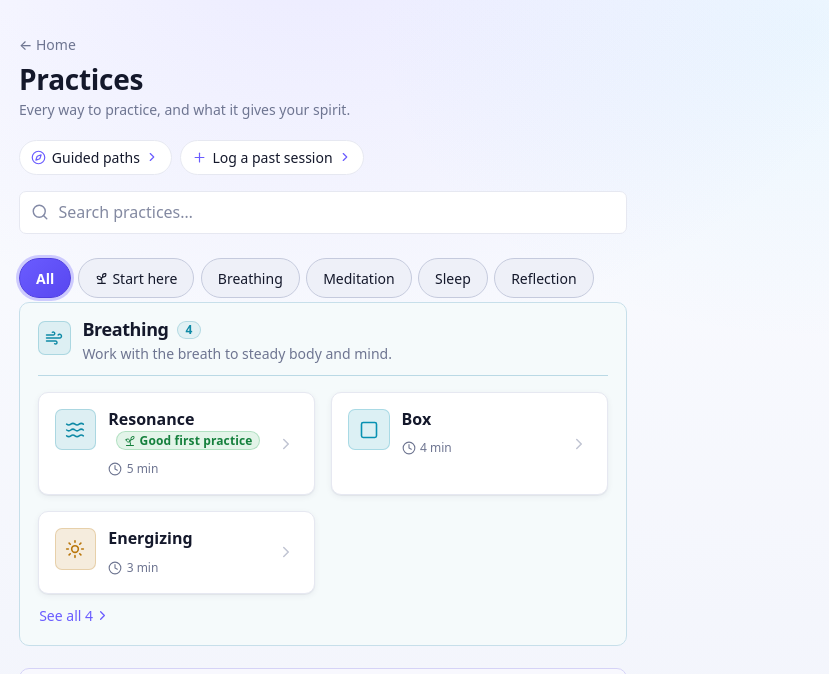
Scenario: PracticesPage — category chips + shelf previews › keeps the Start-here on-ramp behind its chip (not stacked on the All view)
This screenshot has width=829, height=674.
// …the curated shelf opens from its chip, with full (described) cards…
Click the button "Start here" at (136,278), box [78,258,194,298]
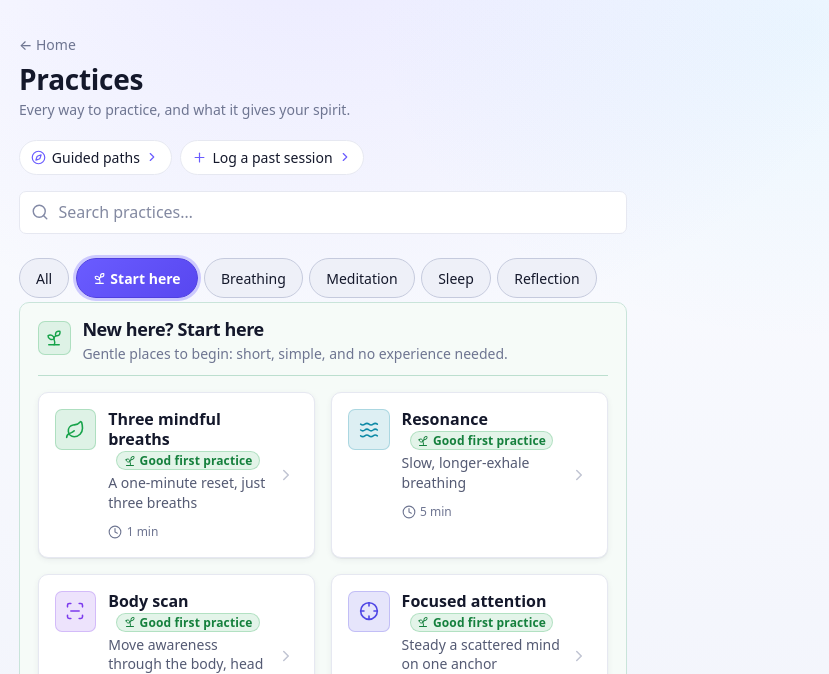
// "All" returns to the overview.
Click the button "All" at (44,278), box [19,258,69,298]
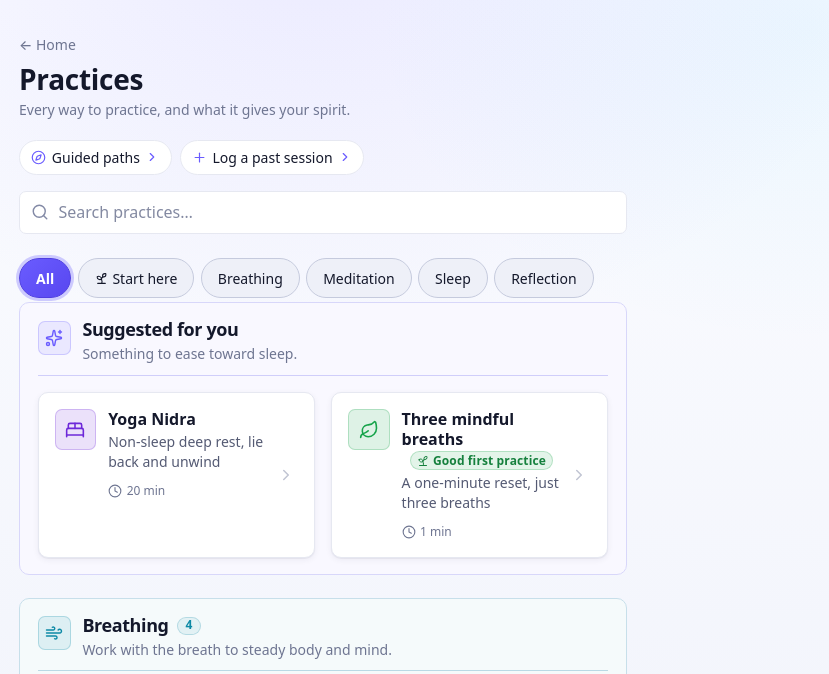
expect the heading "Breathing 4" is shown: met, box [82,613,202,637]
